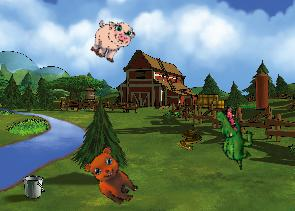bear: (78, 142, 148, 209)
crocodile: (201, 102, 266, 171)
pig: (85, 13, 138, 67)
